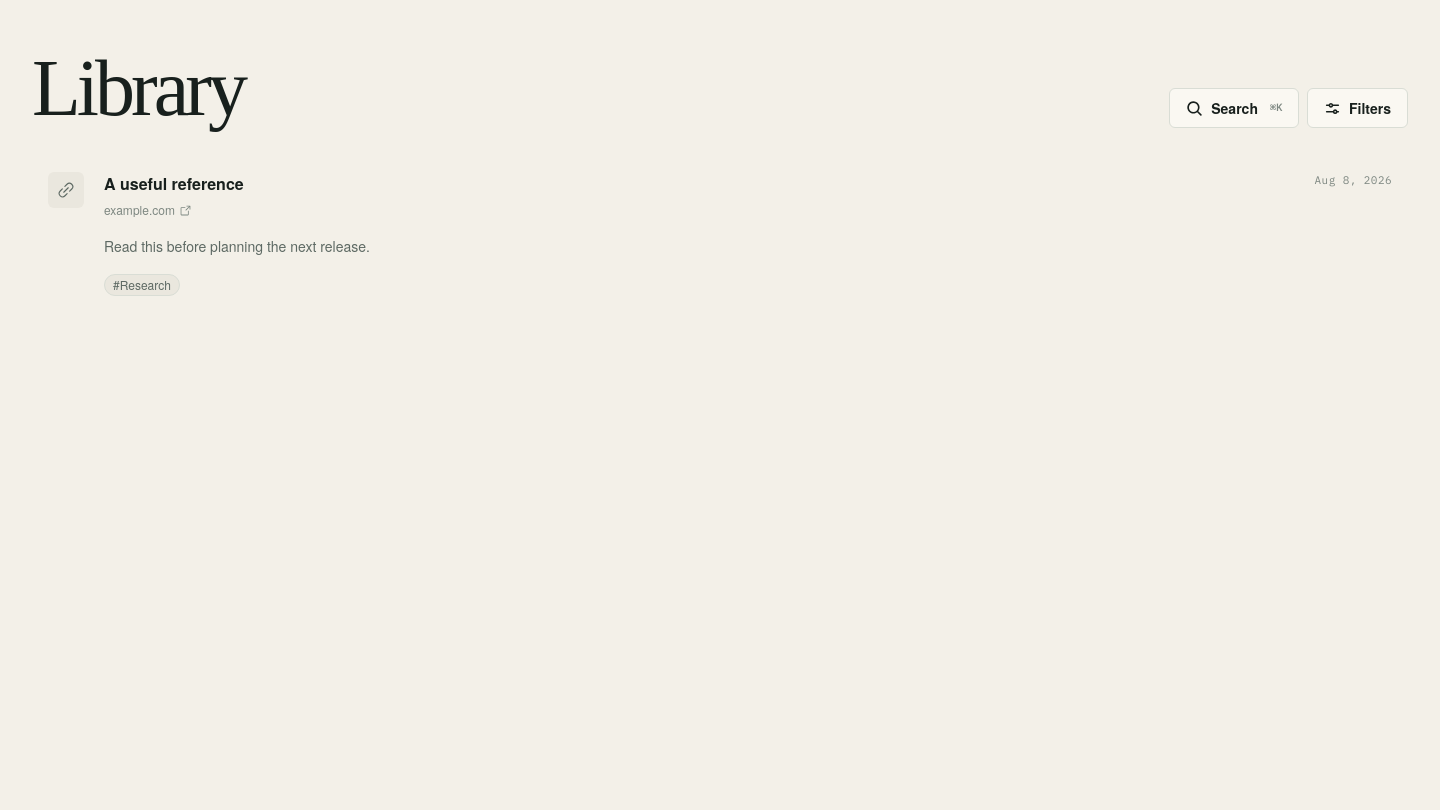
Test: Library data feature › keeps filters collapsed and opens search and tag management as dialogs
Expected: the heading "A useful reference" is shown, [104,172,244,196]
Click the button "Search ⌘K" at (1234, 108), box [1169,88,1299,128]
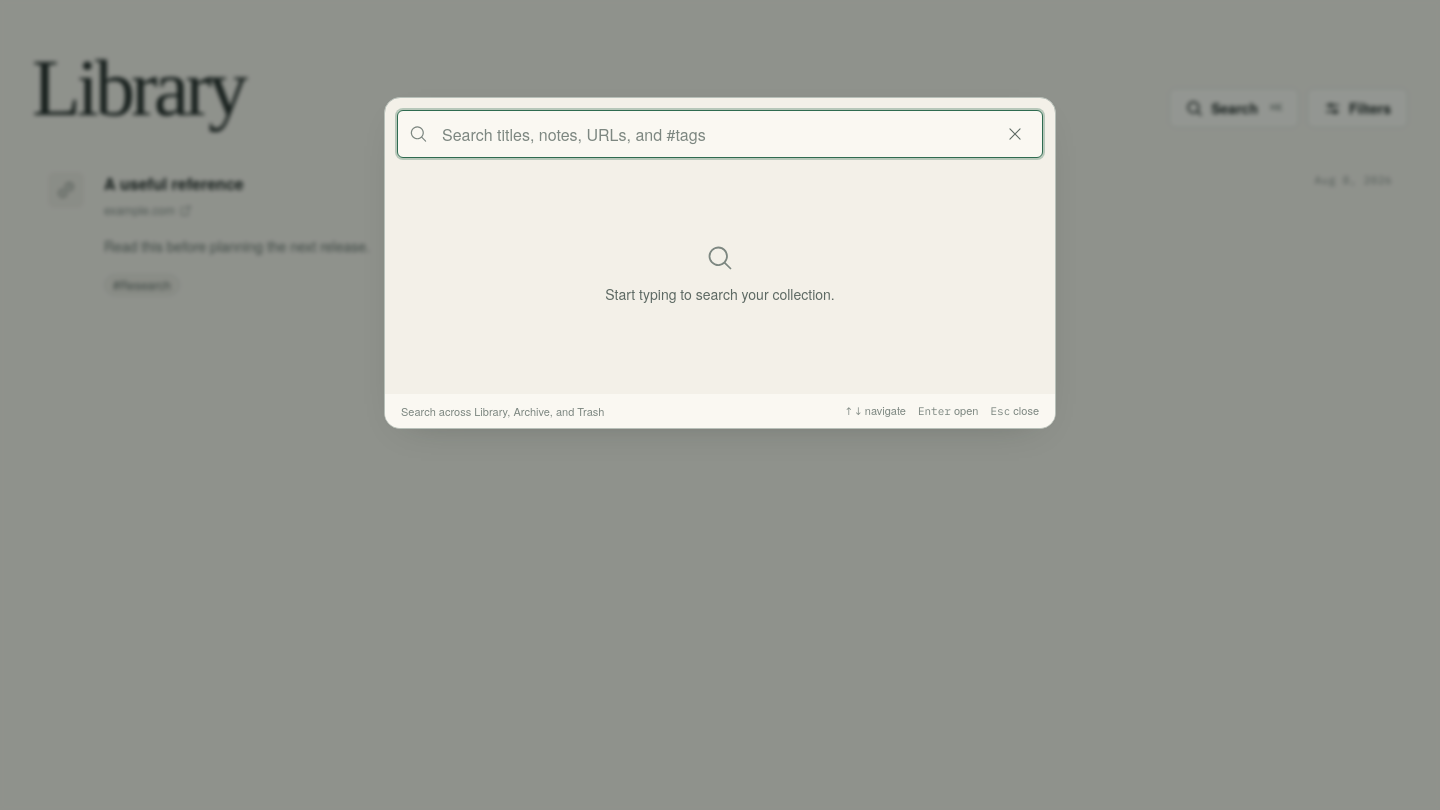
Expected: the dialog named "Search your Library" is shown, [384,97,1056,429]
Click the button named "Close search" at (1015, 134), box [995,114,1035,154]
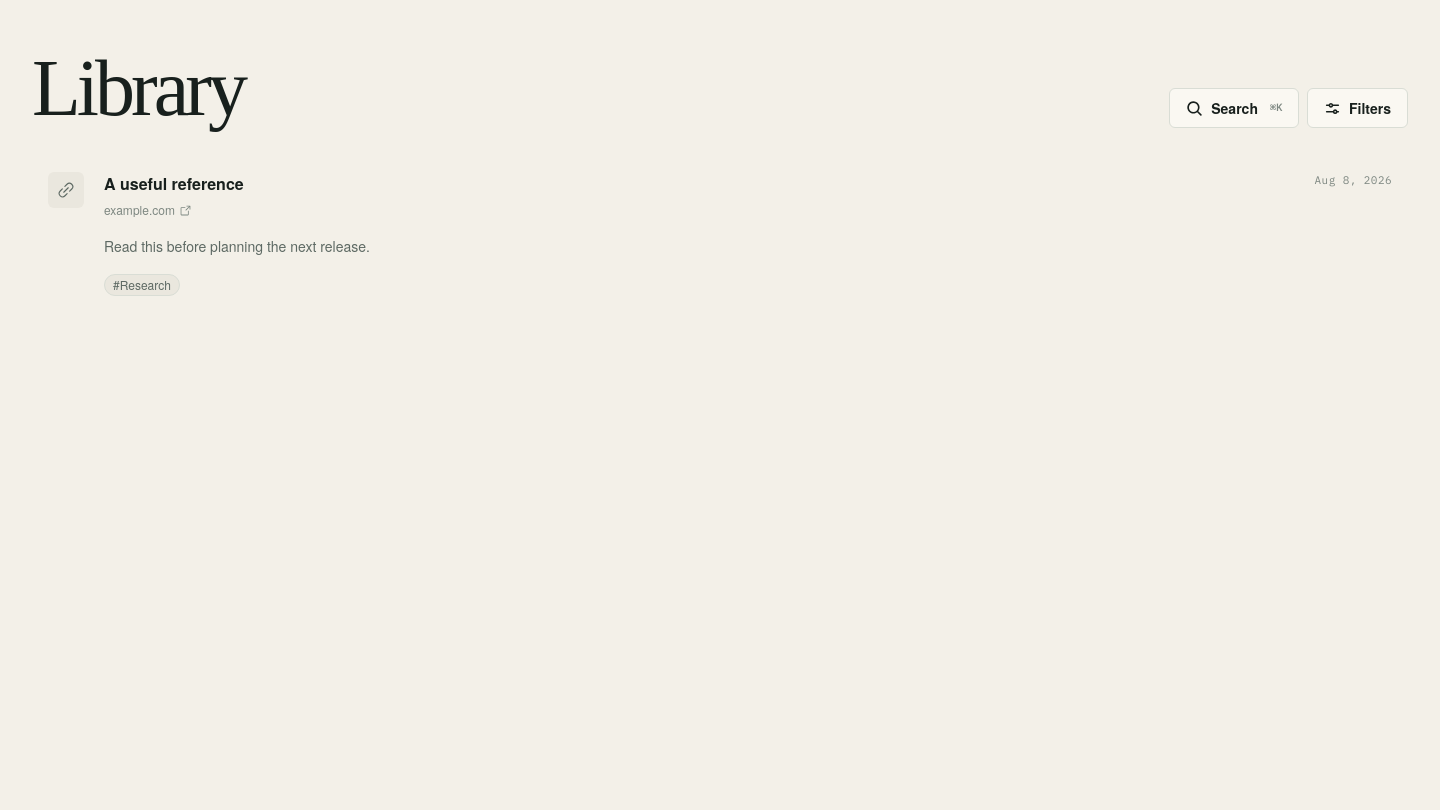
Click the button "Filters" at (1358, 108), box [1307,88,1408,128]
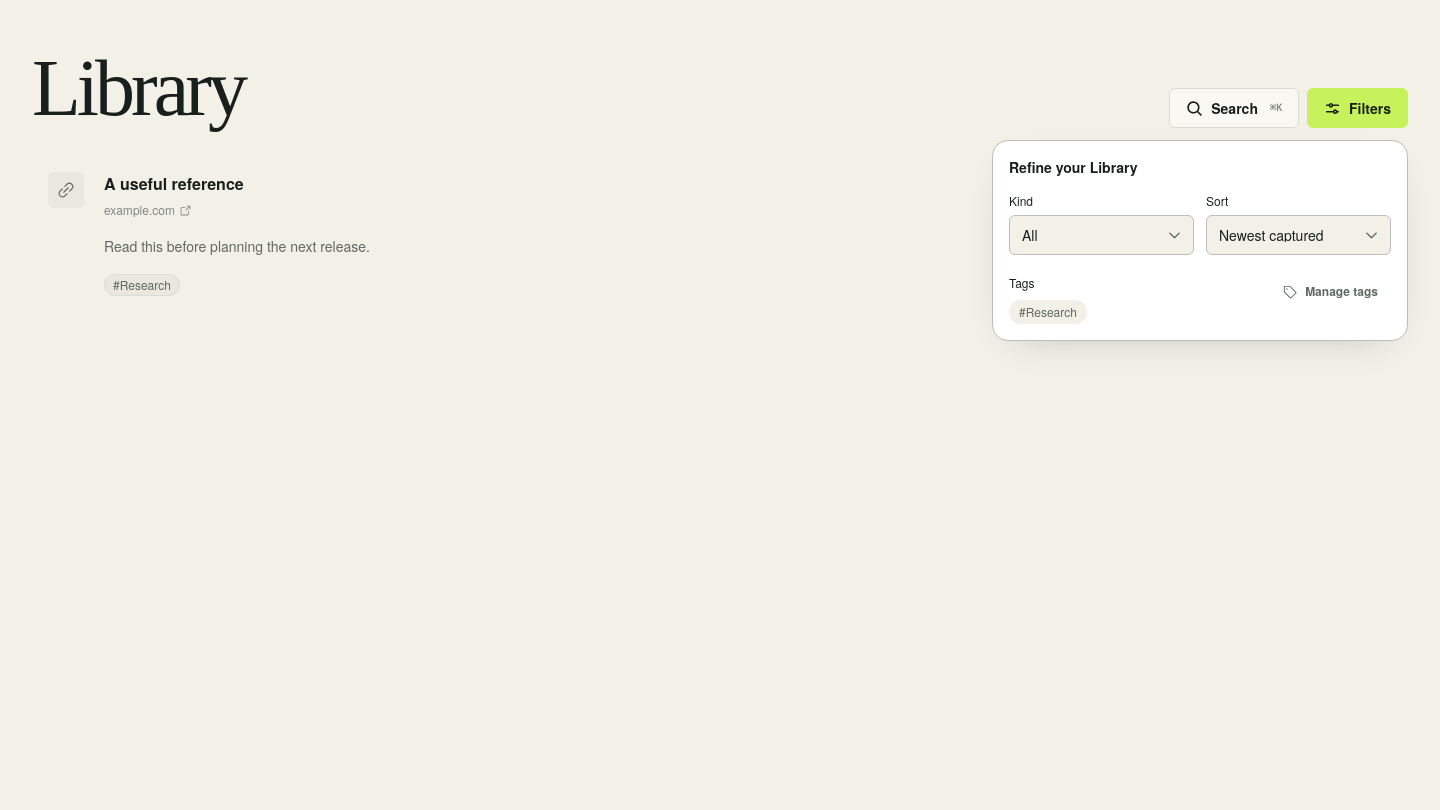
Expected: the dropdown named "Filter by kind" is shown, [1009,215,1194,255]
Click the button "Manage tags" at (1330, 291), box [1269,275,1391,307]
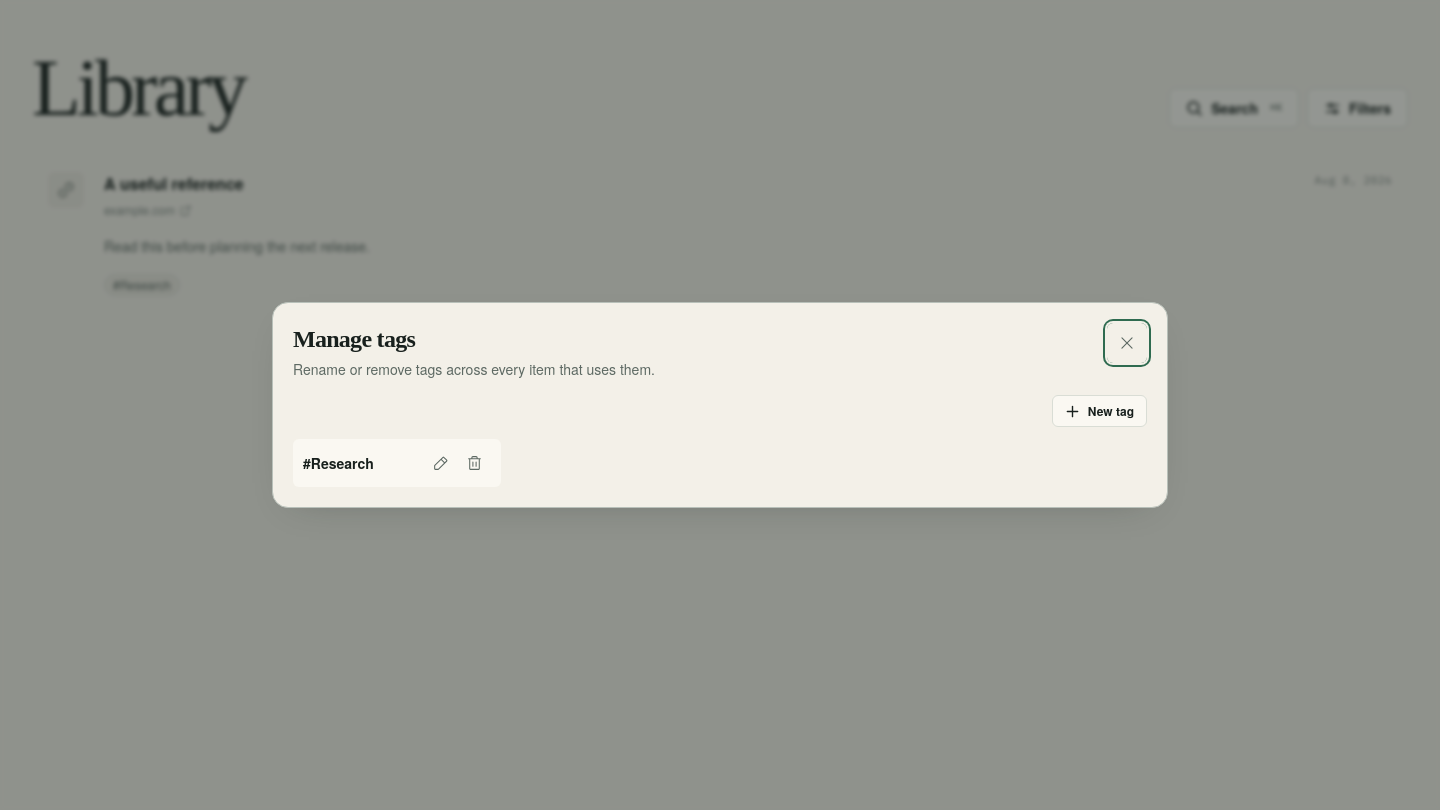
Expected: the dialog "Manage tags" is shown, [272,302,1168,508]
